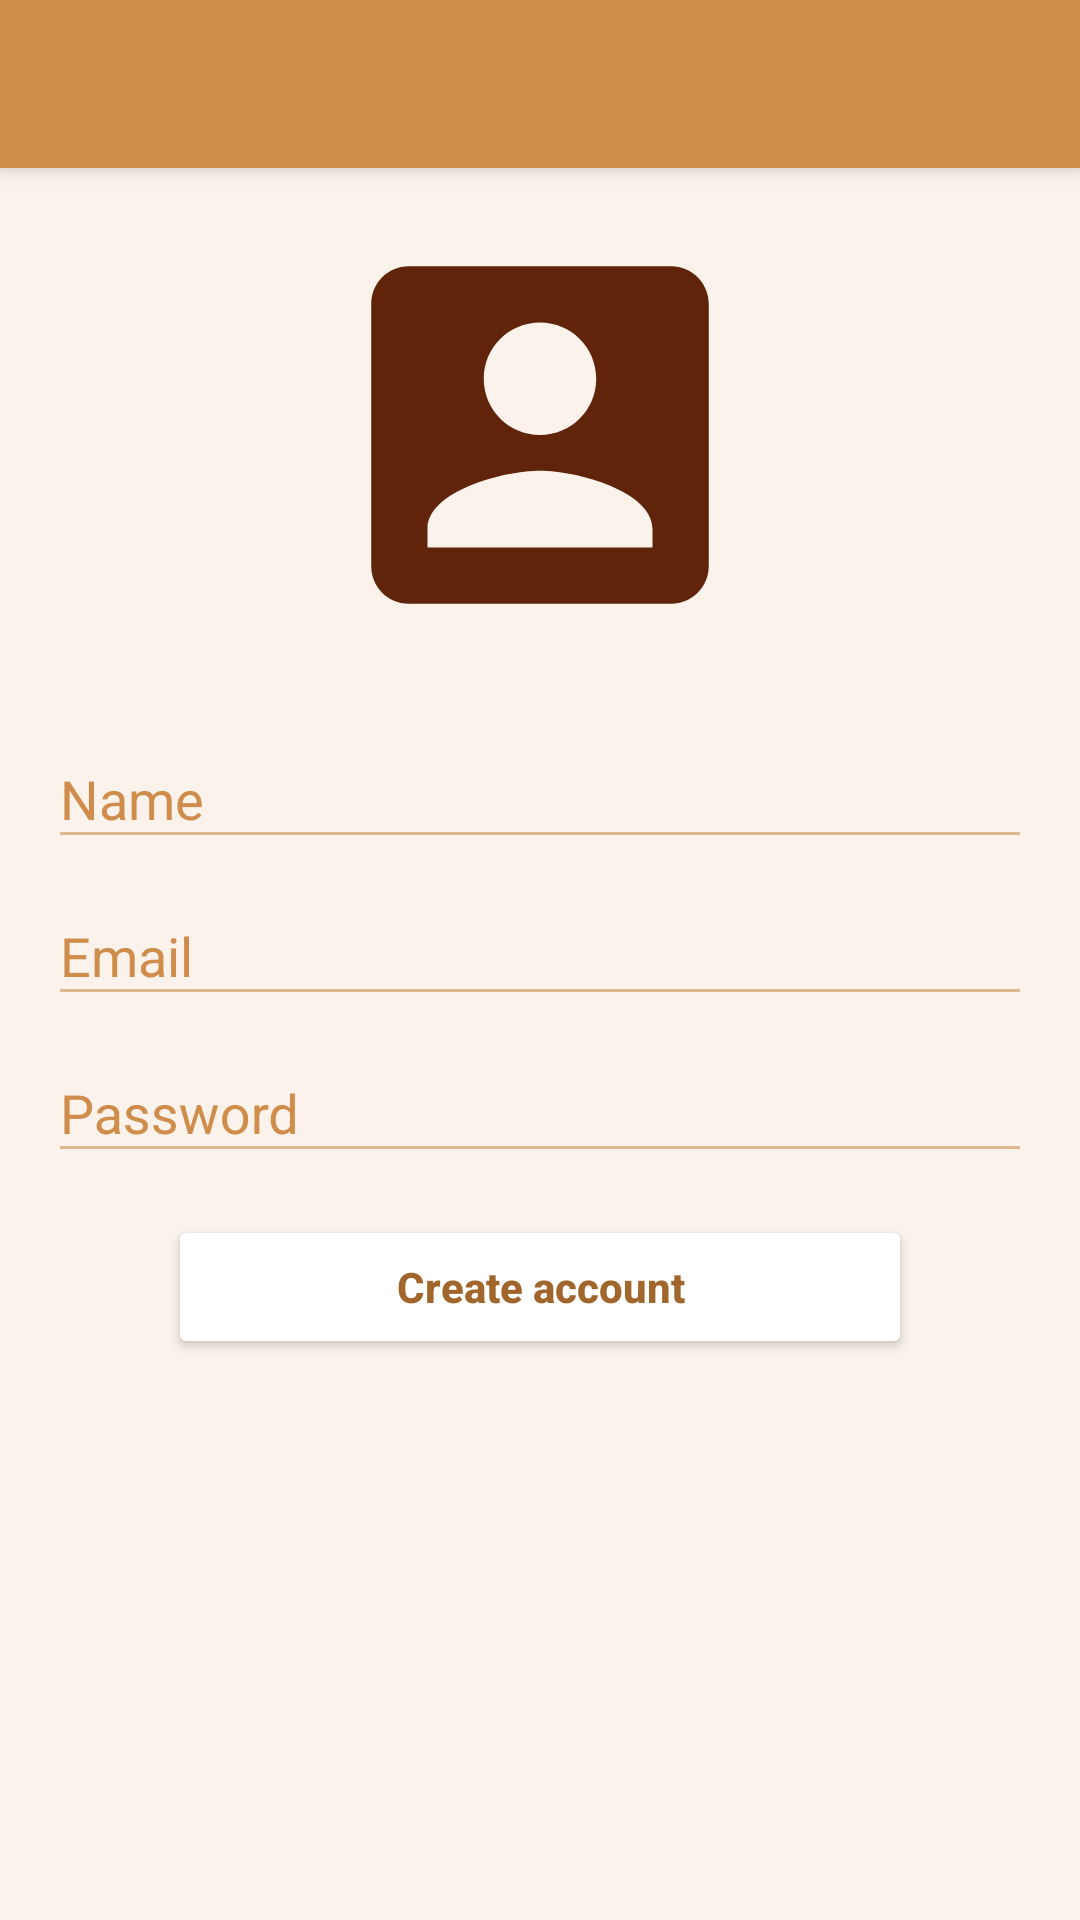

Icons on this 1080x1920 Android screen, each with the point to tap as (x,y):
account: (540,435)
